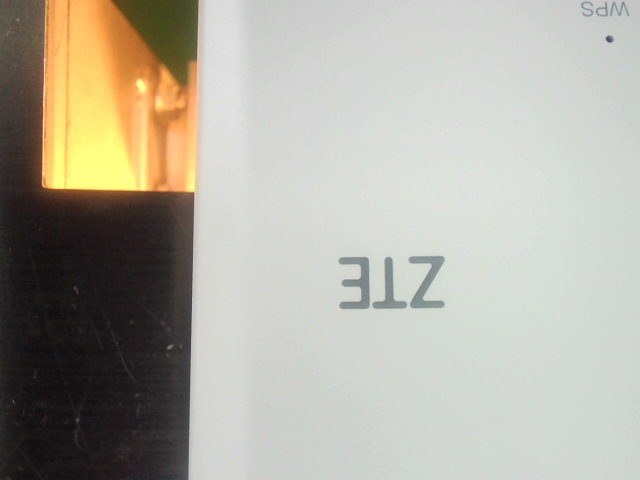AO_ZTESmall: (328, 245, 454, 325)
